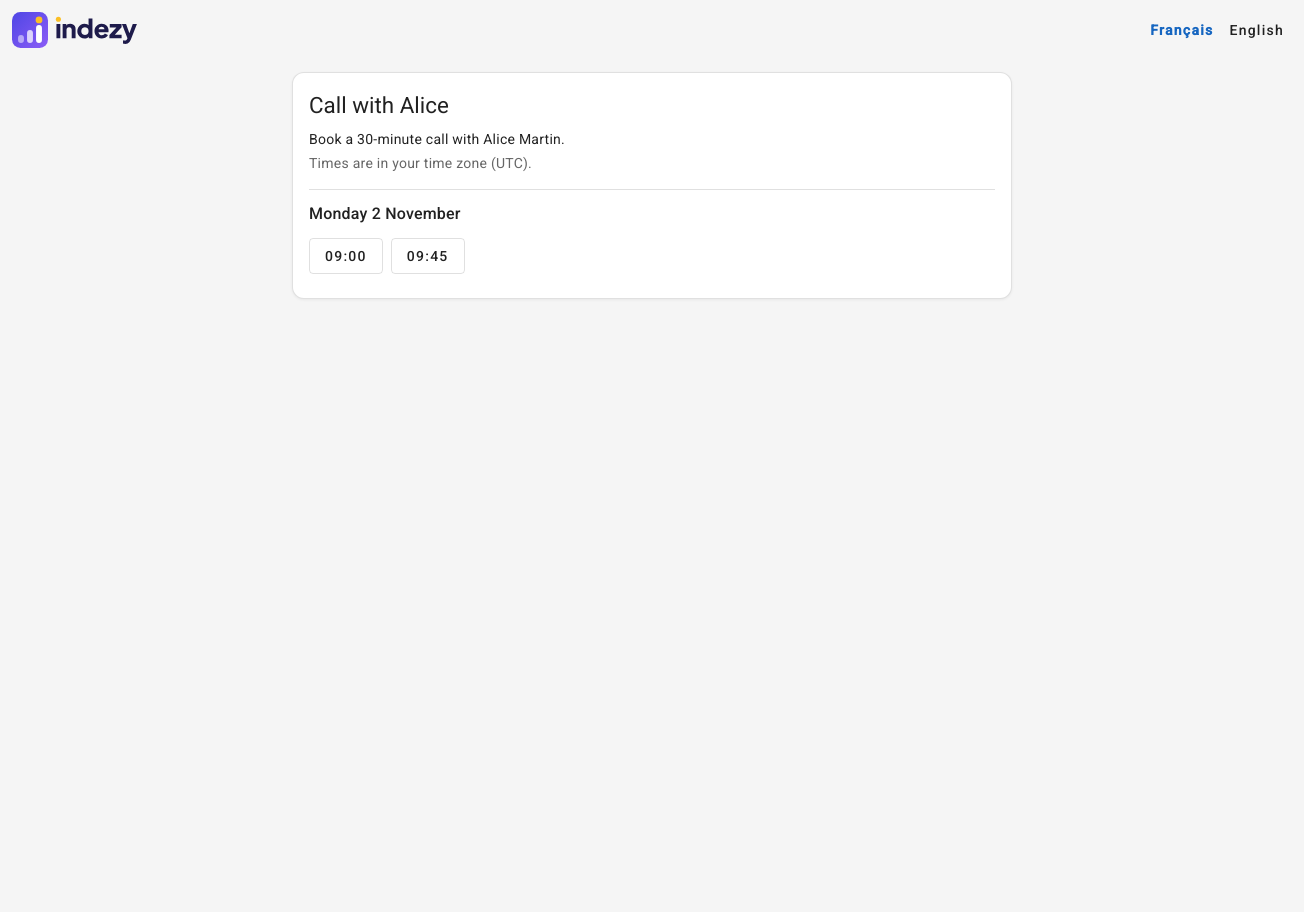
Test: BookComponent › shows the times again when the chosen one was just taken, and says when there were too many bookings
Click the button "09:00" at (346, 256), box [309,238,383,274]
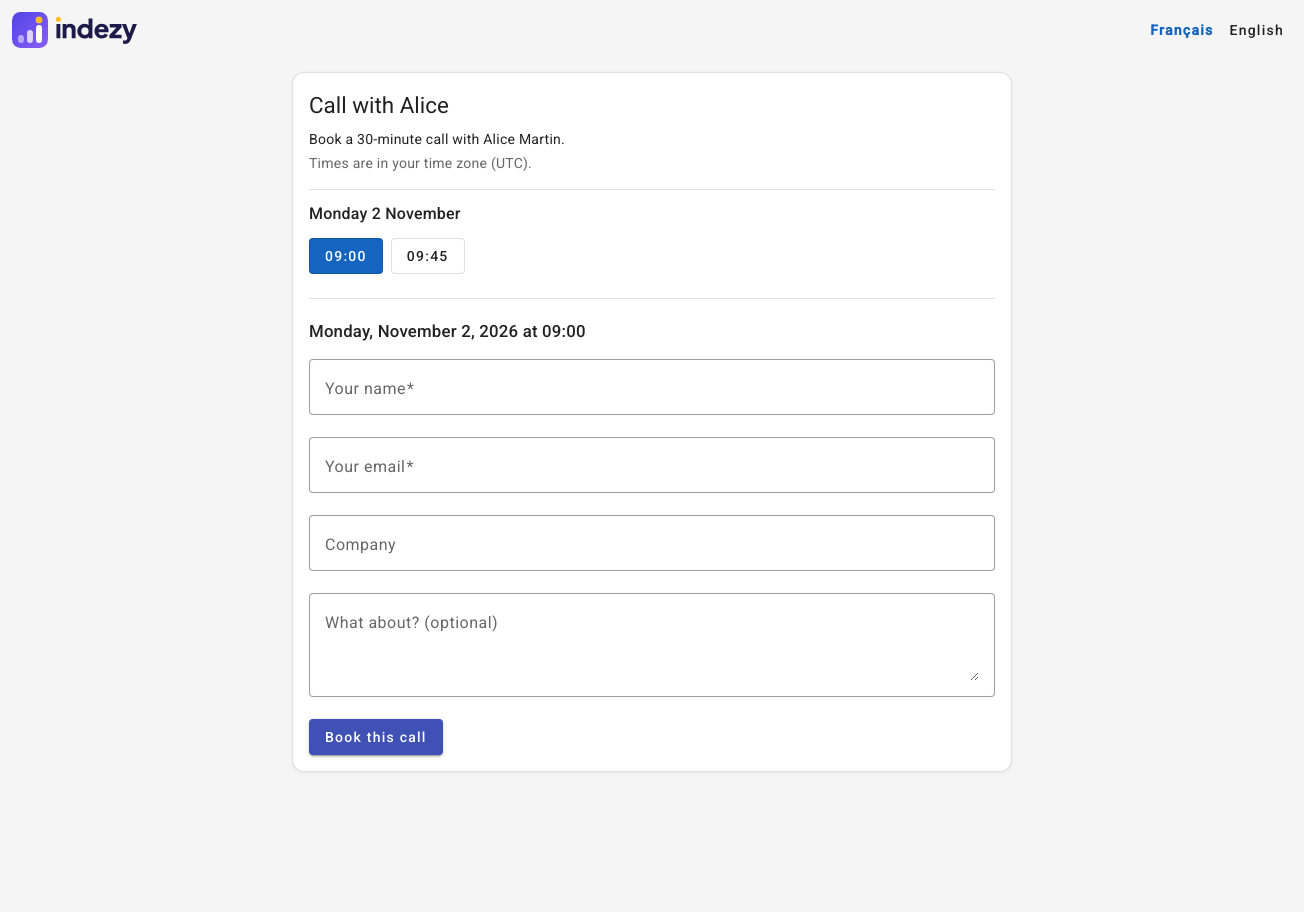
Type "Bob" into the field labelled "Your name" at (652, 387), box [325,375,979,399]
Type "bob@esn.example" into the field labelled "Your email" at (652, 465), box [325,453,979,477]
Type " ESN " into the field labelled "Company" at (652, 543), box [325,531,979,555]
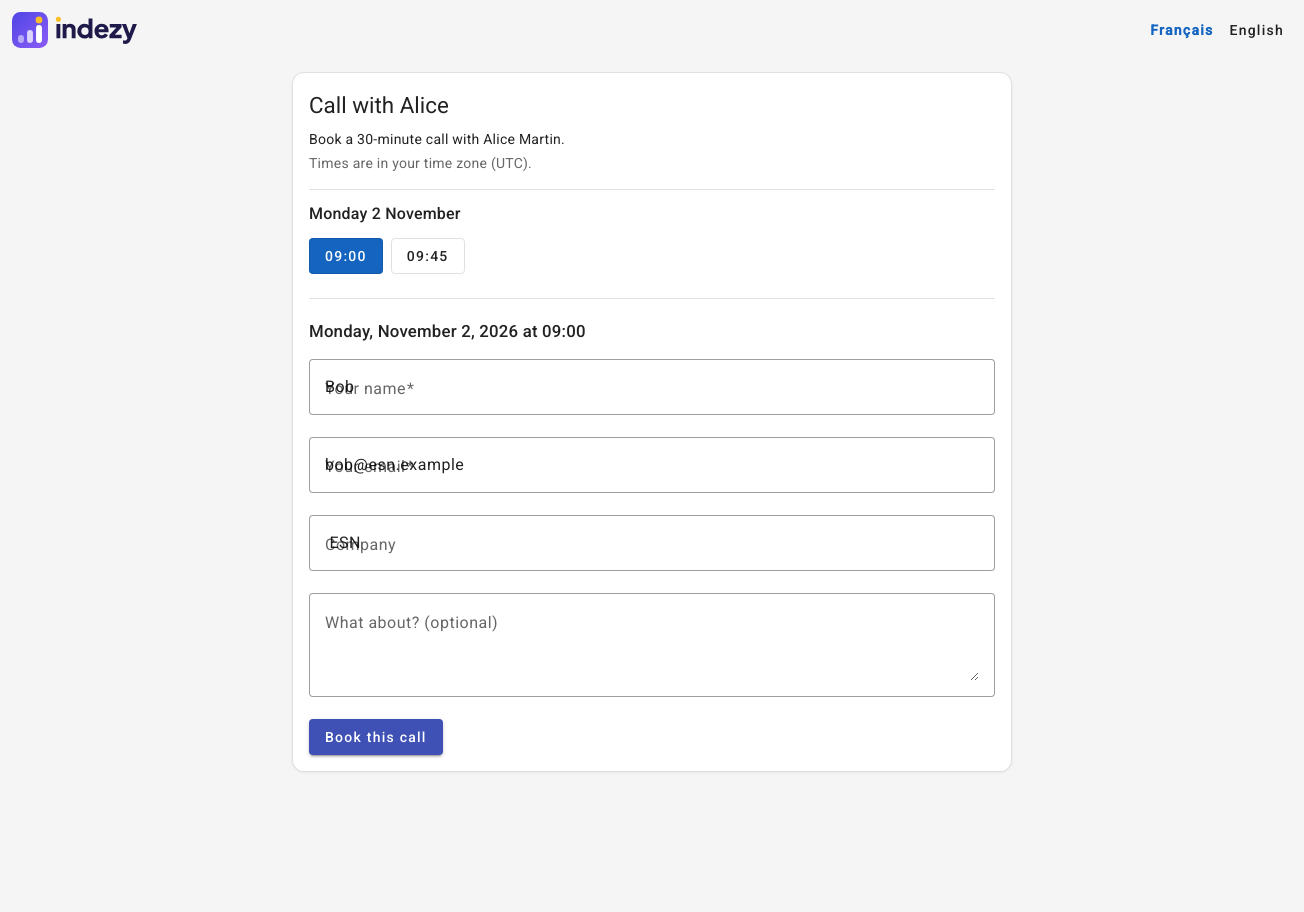
Click the button "Book this call" at (376, 737), box [309,719,443,755]
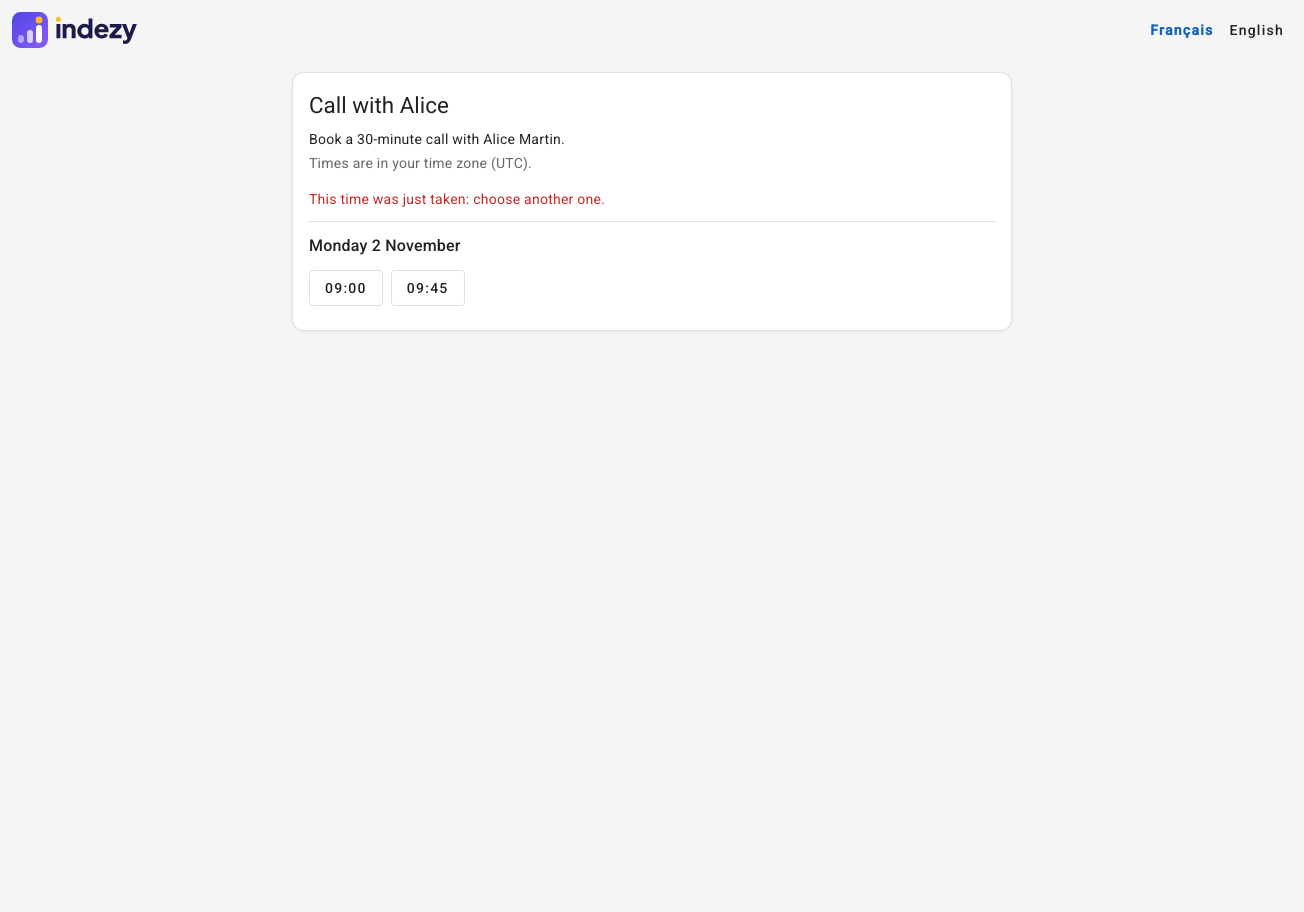
Now the message "This time was just taken: choose another one." is shown, box [309,191,605,207]
Click the button "09:00" at (346, 288), box [309,270,383,306]
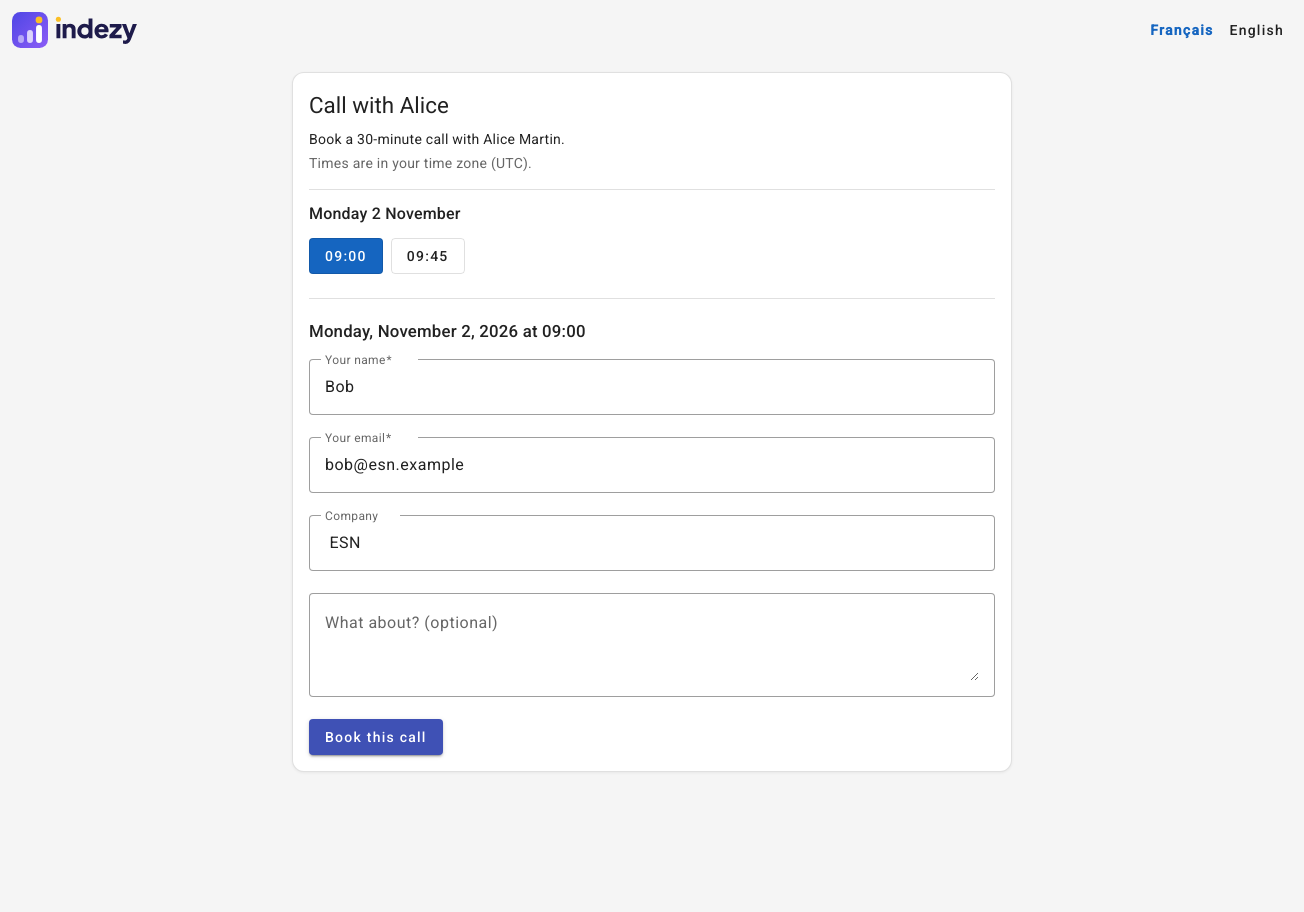
Click the button "Book this call" at (376, 737), box [309,719,443,755]
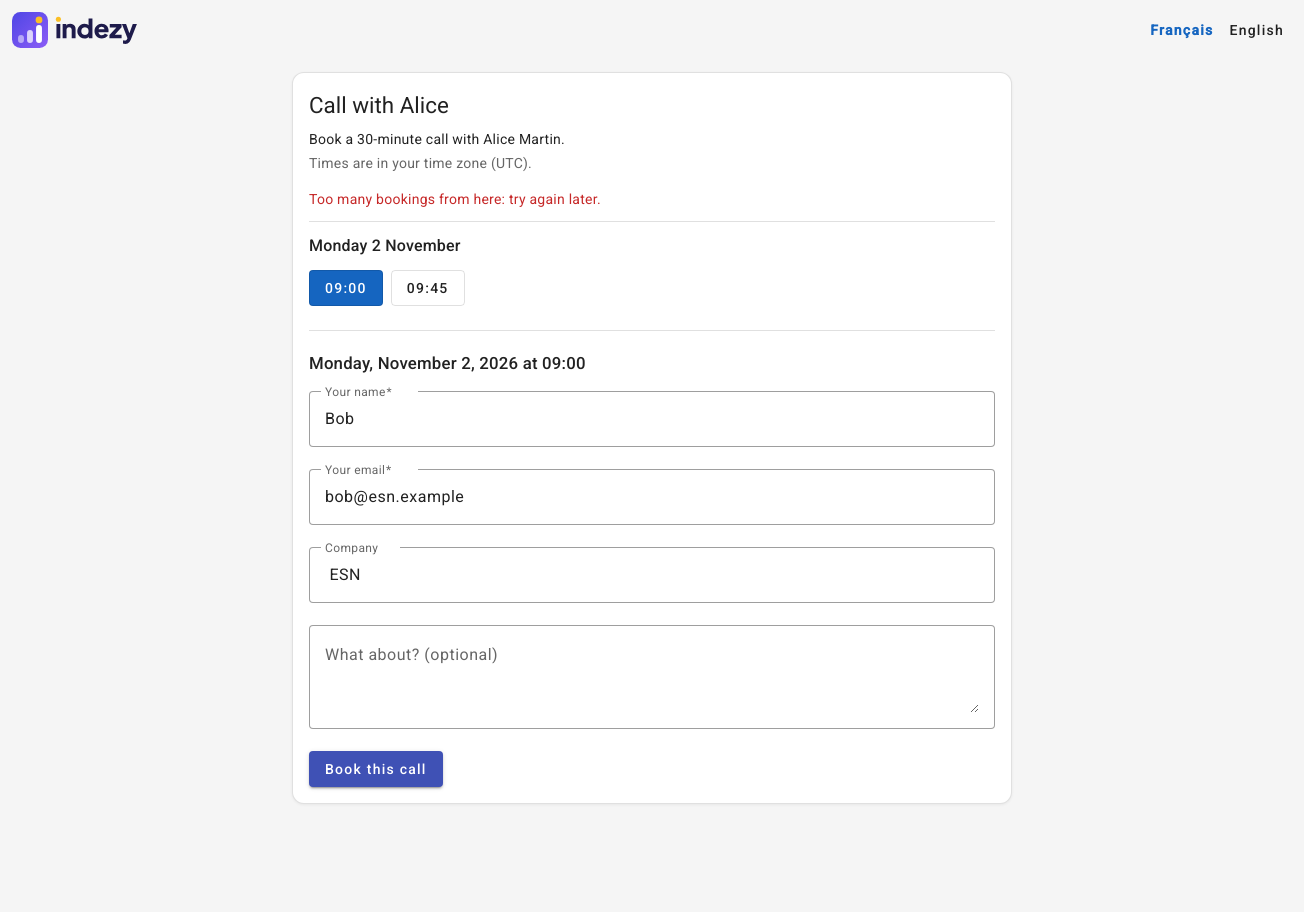
Now the message "Too many bookings from here: try again later." is shown, box [309,191,601,207]
Click the button "Book this call" at (376, 769), box [309,751,443,787]
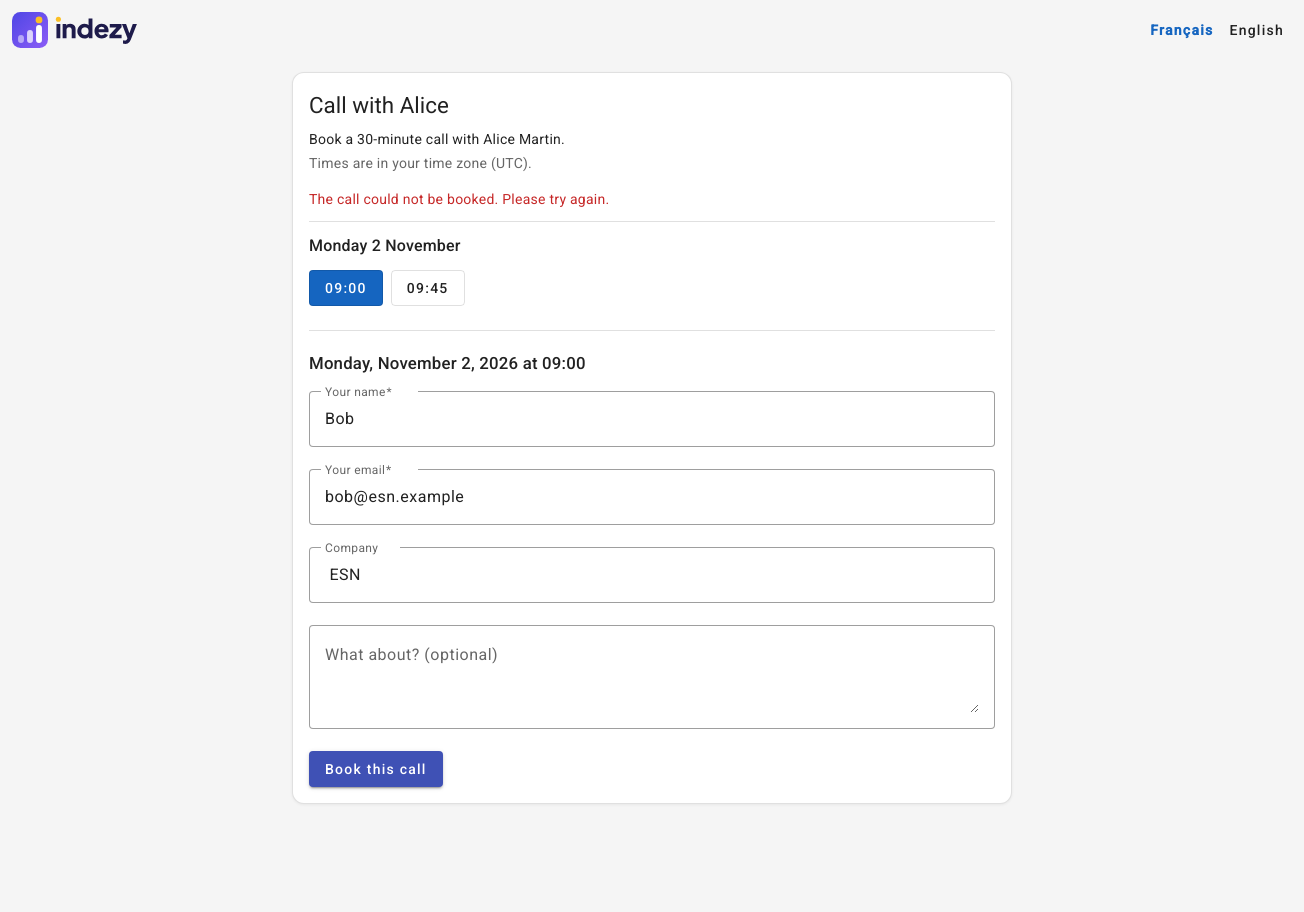
Now the message "The call could not be booked. Please try again." is shown, box [309,191,609,207]
